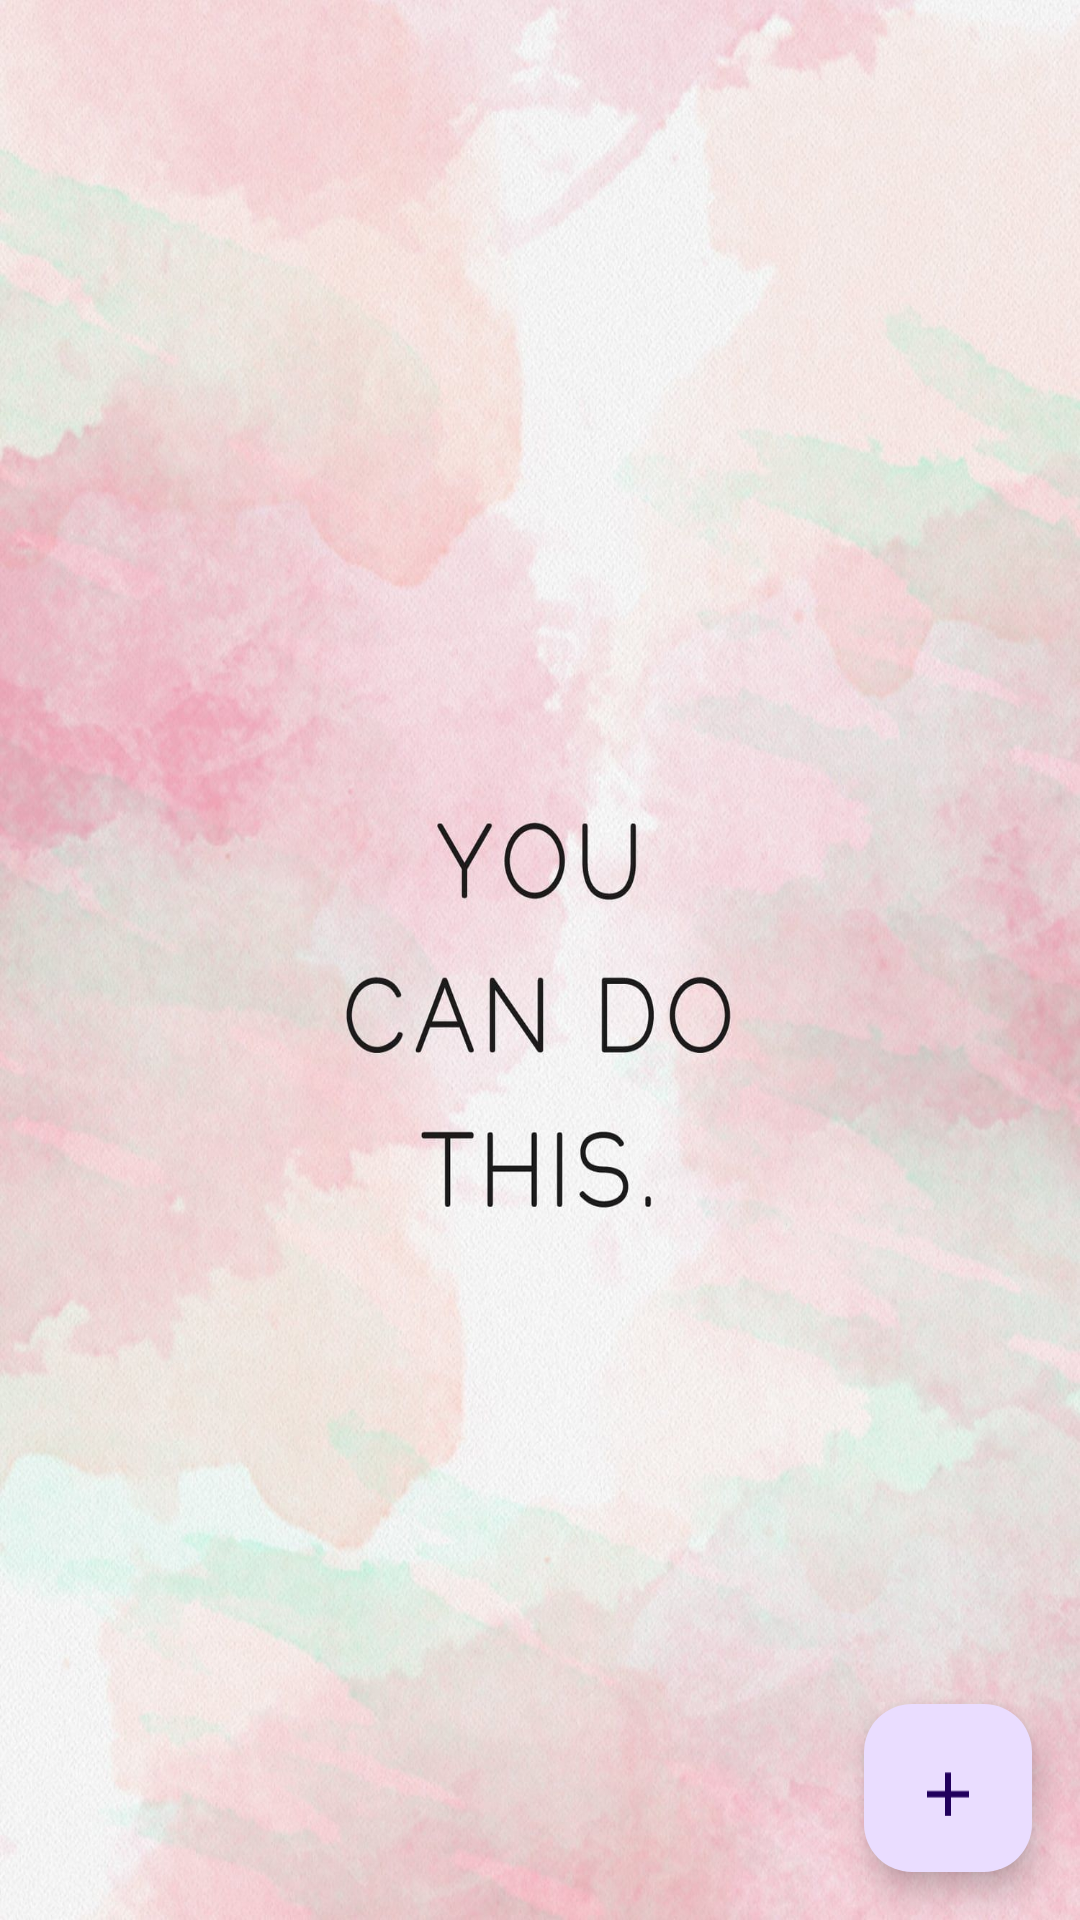

Screen size 1080x1920. Icon name, then its box in pixels as rect(x1, y1, x2, y2):
Add Todo: rect(864, 1704, 1032, 1872)
